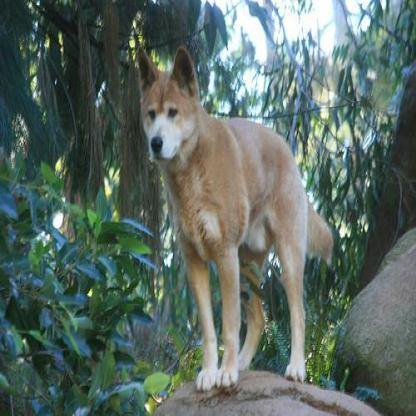dingo: (136, 44, 332, 388)
